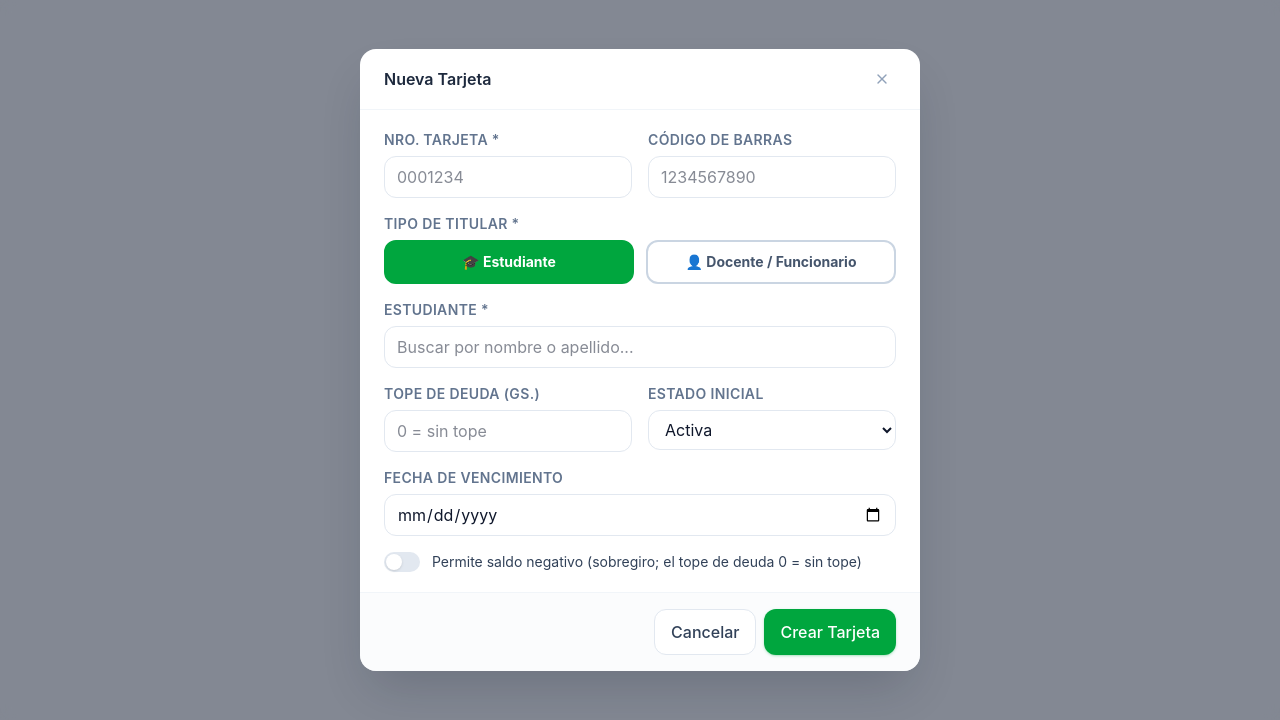
it: ModalCrear › busca al estudiante por nombre en vez de precargar un combo
Type "Riveros" into the field with placeholder "Buscar por nombre o apellido...".
click(640, 347); type("Riveros")  # box [384, 326, 896, 368]
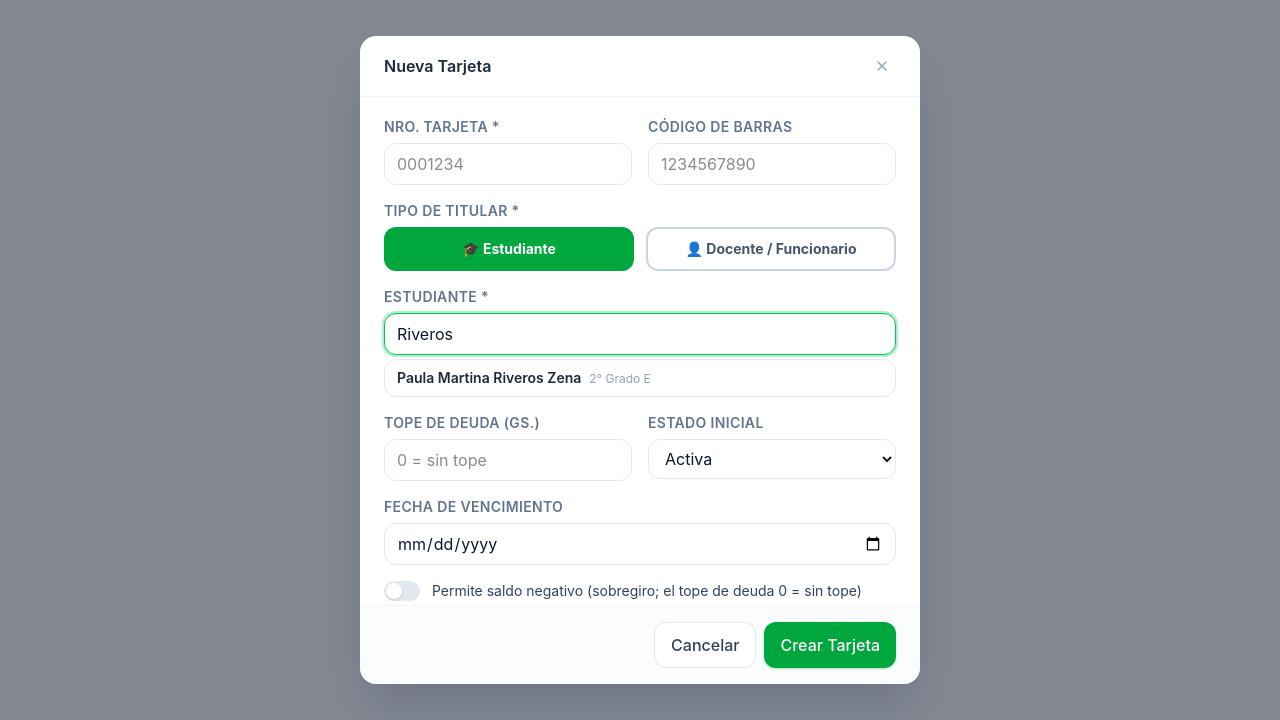
Check: the text "Paula Martina Riveros Zena" is shown, box [397, 369, 581, 386]
